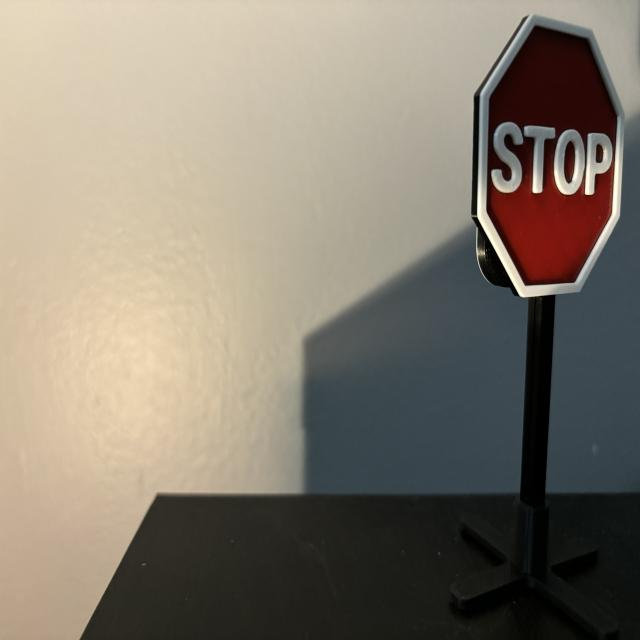sign_stop: (479, 14, 625, 298)
